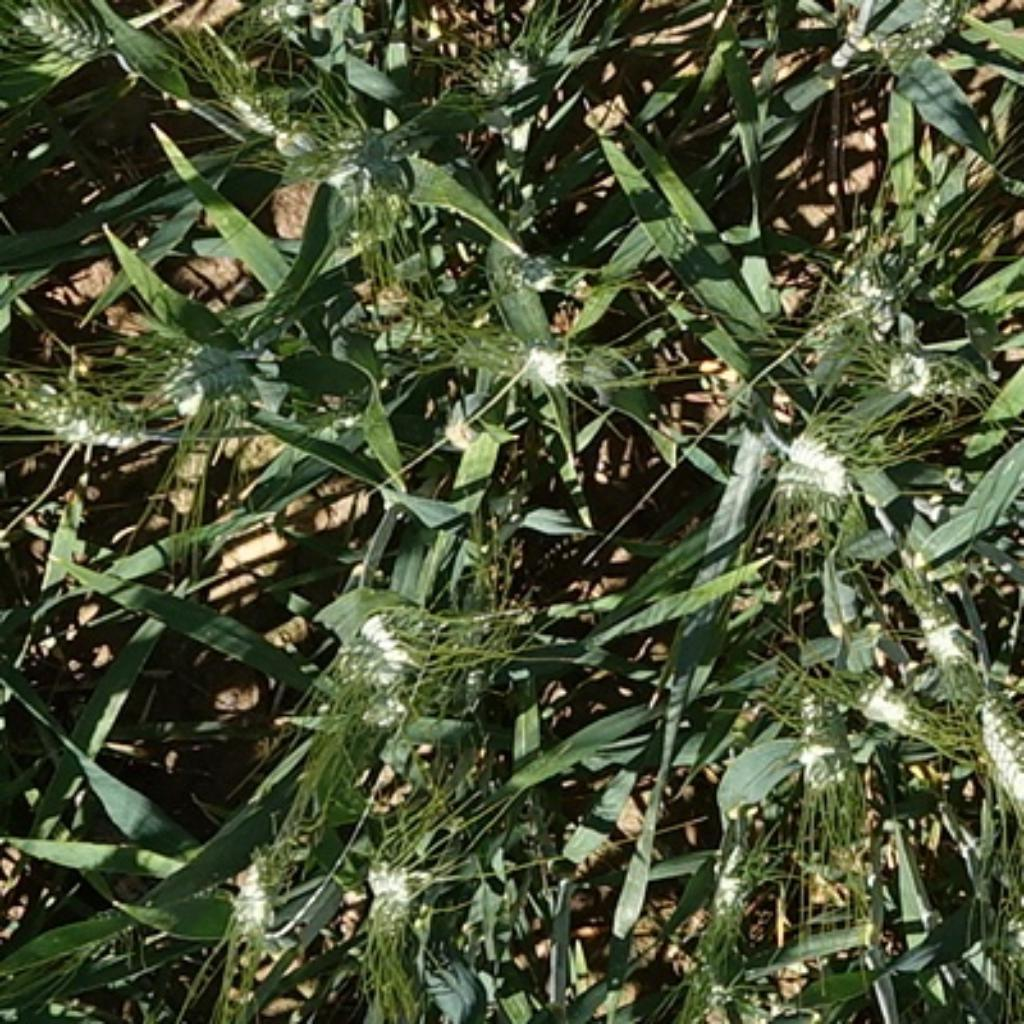0-0: (803, 213, 936, 373), (683, 832, 785, 1000), (327, 588, 450, 724), (775, 655, 872, 824), (312, 102, 414, 240), (135, 317, 263, 412), (16, 376, 169, 451), (197, 40, 307, 143), (220, 821, 314, 936), (896, 568, 983, 688), (870, 327, 995, 399), (298, 376, 410, 456), (460, 15, 560, 104), (967, 673, 1024, 814), (765, 419, 855, 506), (494, 317, 599, 389), (839, 657, 924, 739), (11, 4, 116, 68), (364, 844, 431, 942), (476, 230, 563, 302), (878, 0, 975, 53), (235, 0, 348, 40)
